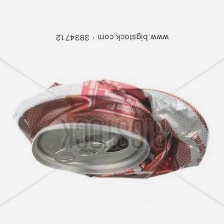can: (8, 70, 211, 182)
